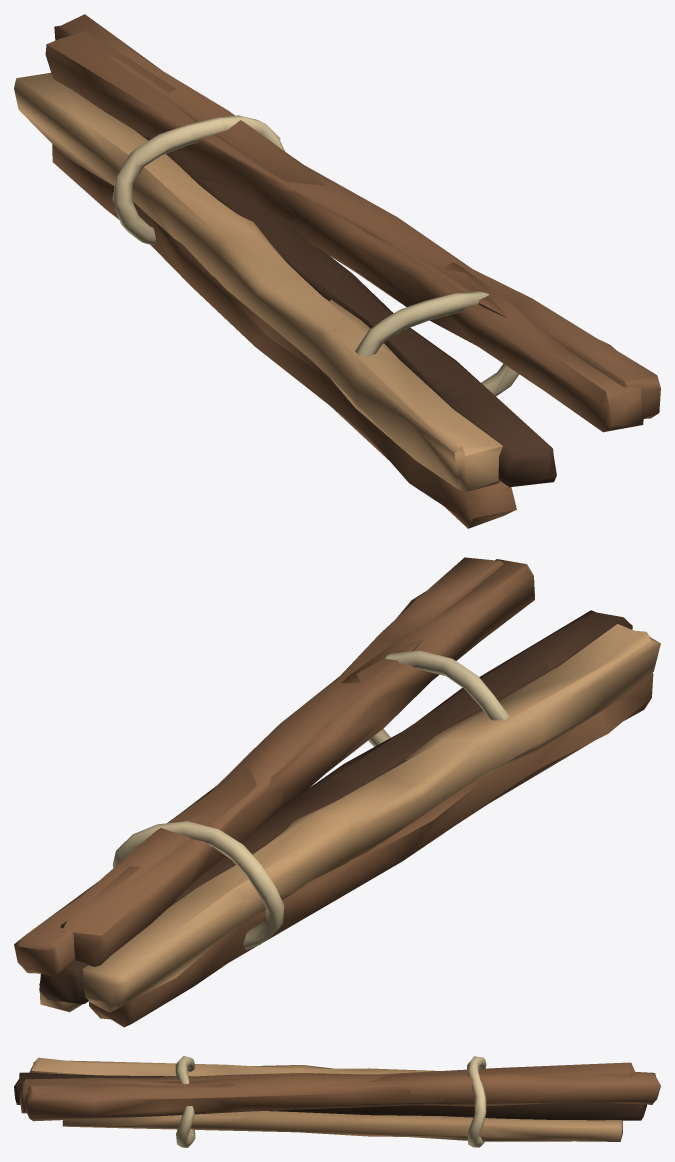
File: ember_kindling_b_lod1.glb
3 views of the same model, one above another, from view 1: azimuth 30°, elevation 25°; view 2: azimuth 150°, elevation 25°; view 3: azimuth 270°, elevation 25° (orthographic). The views are drawn at different scales.
Visible parts, largest first — view 1: ember_kindling_b.001; view 2: ember_kindling_b.001; view 3: ember_kindling_b.001.
Part boxes in pixels (<box>): ember_kindling_b.001: <box>14,14,660,528</box>; ember_kindling_b.001: <box>14,557,660,1027</box>; ember_kindling_b.001: <box>14,1056,660,1147</box>.
Bounding box in the file's own units: 4.95 × 2.83 × 22.2.
